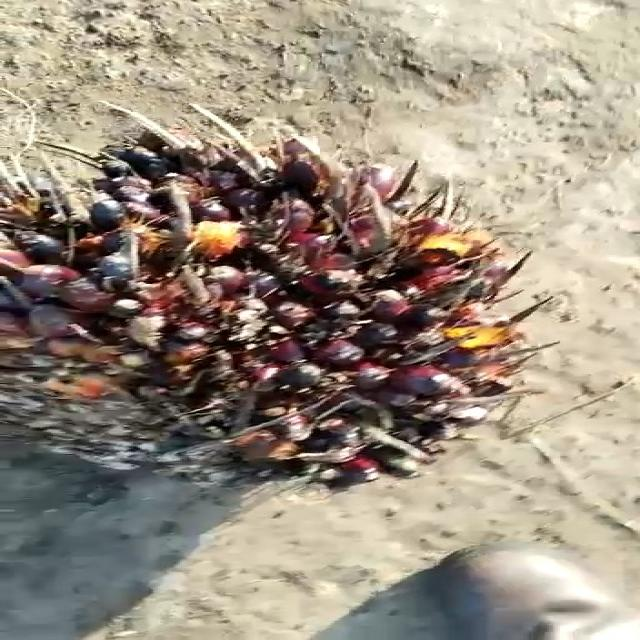palm oil: (0, 119, 515, 528)
